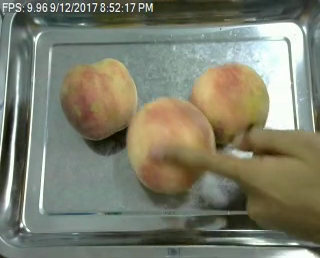Peach: (129, 94, 217, 197), (189, 63, 270, 144), (61, 58, 136, 141)
